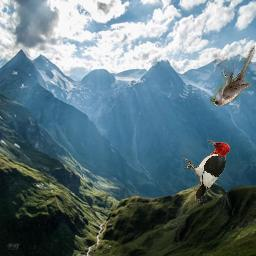Cuckoo: (211, 46, 256, 107)
Woodpecker: (184, 140, 231, 203)
